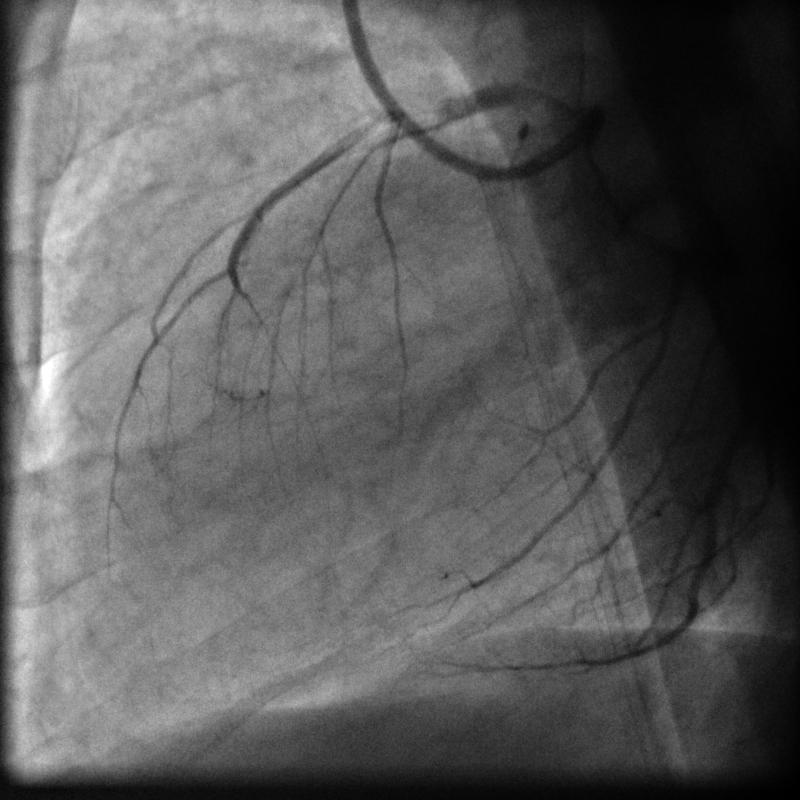Stenosis: (400, 99, 447, 138)
